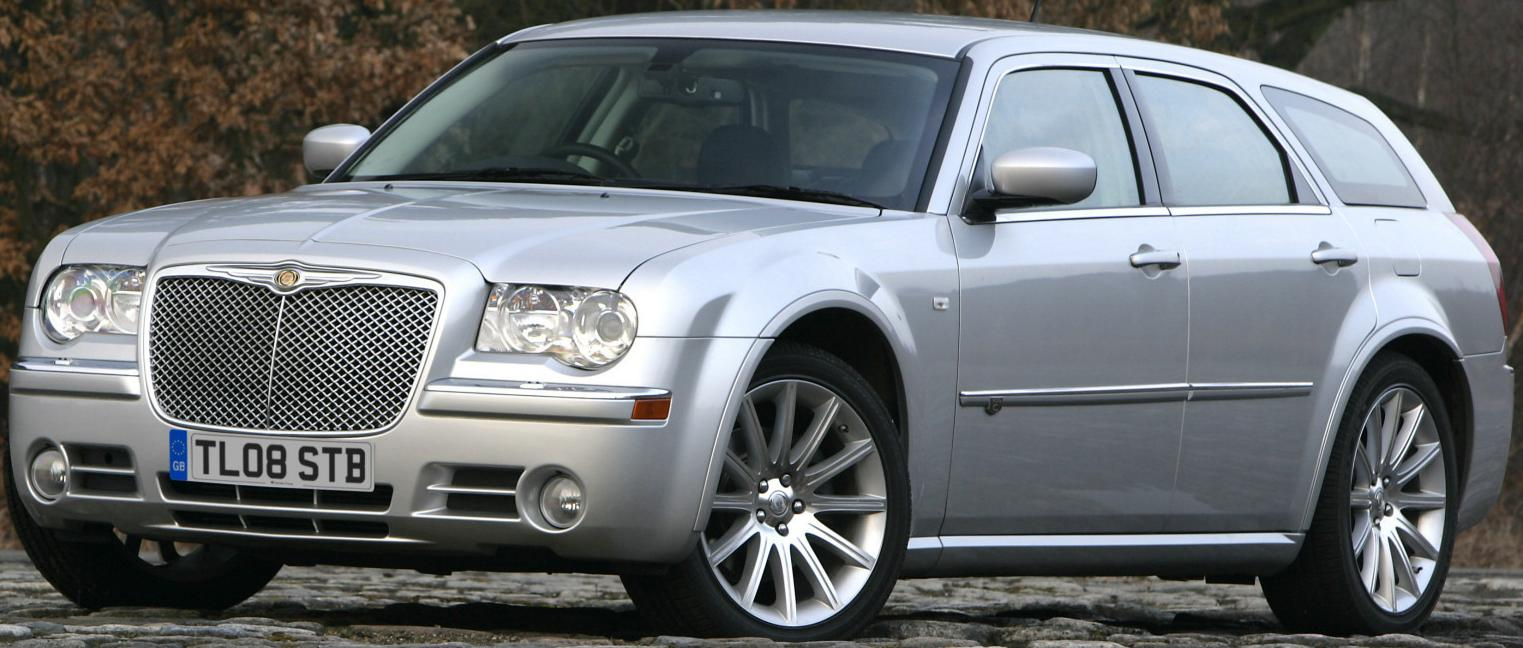front_view: (22, 239, 727, 536)
headlight: (460, 276, 657, 400)
side_glass: (971, 43, 1316, 211)
